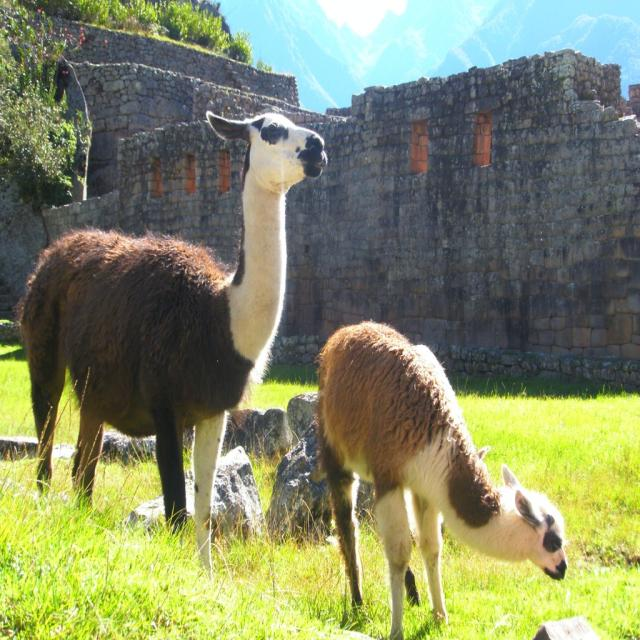alpaca: (18, 109, 325, 580), (313, 318, 567, 640)
